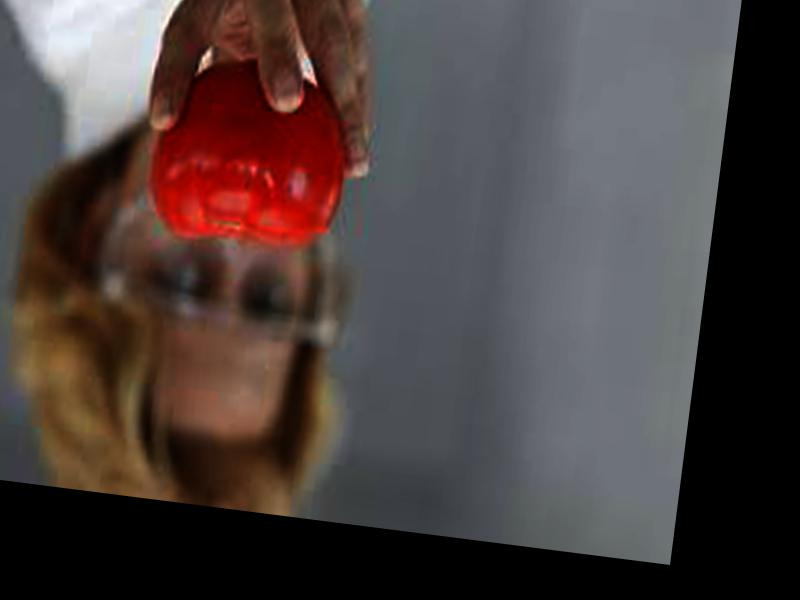Tomato: (139, 53, 355, 251)
